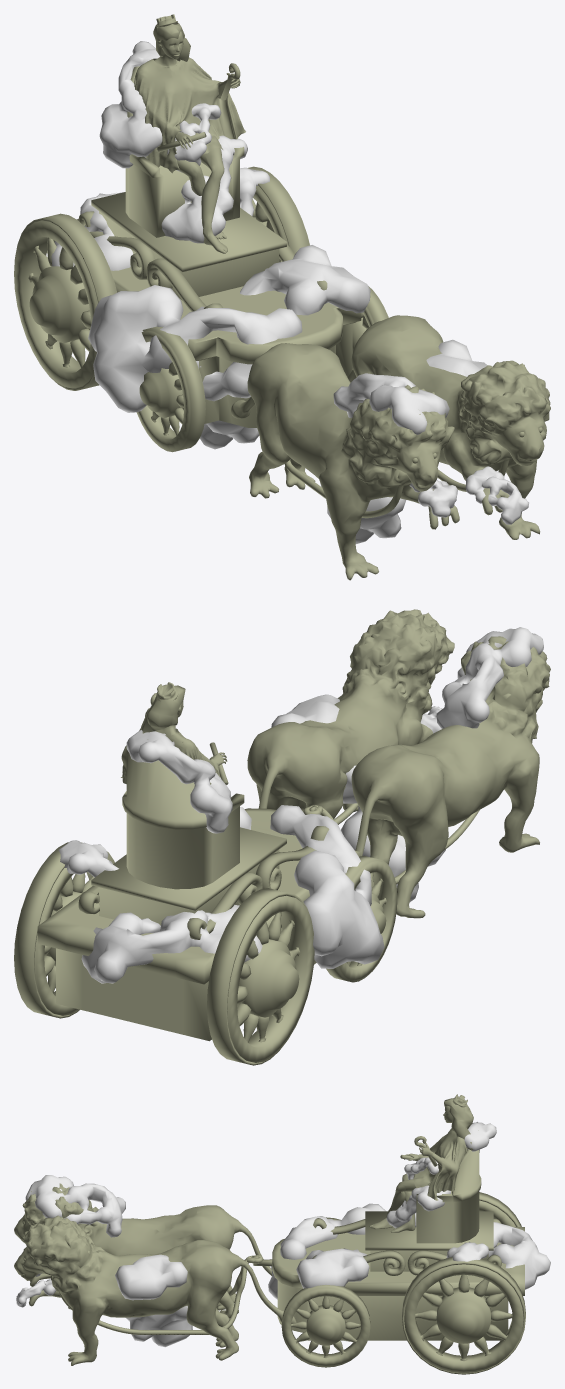
File: CibelesFinal.fbx
3 renders of one model, top to bottom at view 1: azimuth 30°, elevation 25°; view 2: azimuth 150°, elevation 25°; view 3: azimuth 270°, elevation 25°, orthographic. The views are drawn at different scales.
Visible parts, largest first — view 1: CibelesExport; view 2: CibelesExport; view 3: CibelesExport.
Boxes of the visible parts, bbox=[...] form: CibelesExport: bbox=[14, 14, 550, 580]; CibelesExport: bbox=[14, 609, 550, 1065]; CibelesExport: bbox=[14, 1094, 550, 1374].
Bounding box in the file's own units: 11068 × 14519 × 27441.
